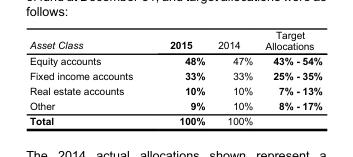table: (28, 29, 321, 126)
table column: (28, 29, 150, 126), (258, 29, 321, 126), (150, 29, 210, 126), (210, 29, 258, 126)
table column header: (28, 29, 321, 52)
table row: (28, 29, 321, 52), (28, 82, 321, 98), (28, 52, 321, 67), (28, 67, 321, 82), (28, 98, 321, 113), (28, 113, 321, 126)
